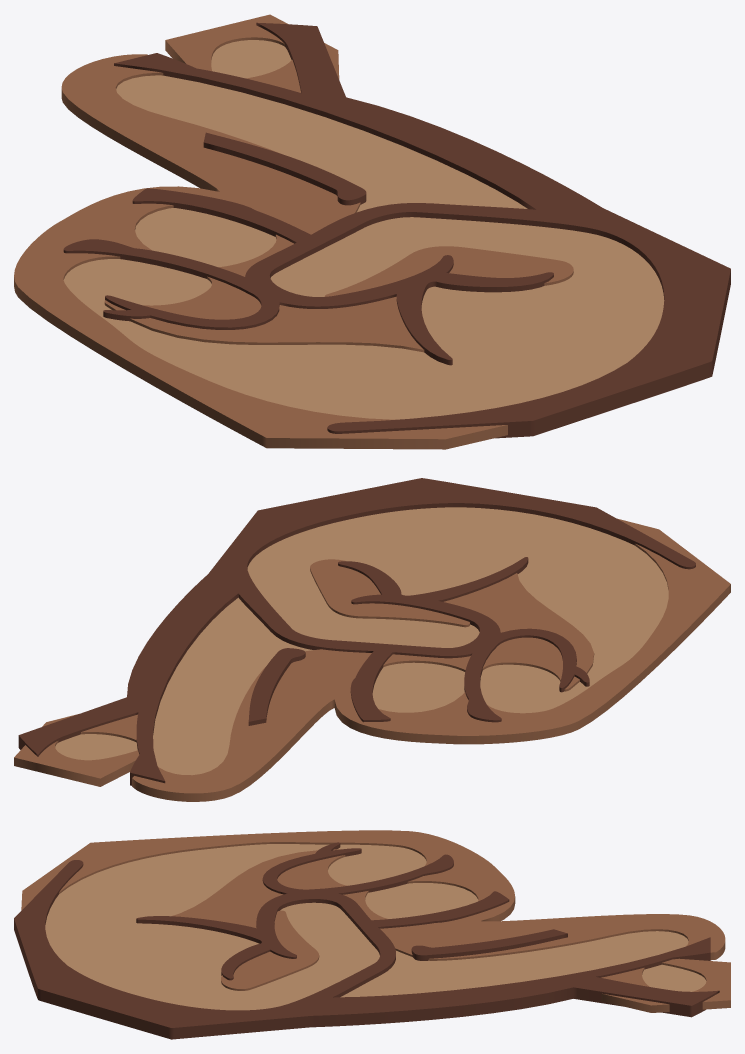
The model's file is emoji_u1f91e_1f3fd.glb.
3 views of the same model, one above another, from view 1: azimuth 30°, elevation 25°; view 2: azimuth 150°, elevation 25°; view 3: azimuth 270°, elevation 25° (orthographic). The views are drawn at different scales.
Visible parts, largest first — view 1: emoji_u1f91e_1f3fd; view 2: emoji_u1f91e_1f3fd; view 3: emoji_u1f91e_1f3fd.
Boxes of the visible parts, x1,y1,x2,y2 form: emoji_u1f91e_1f3fd: [14, 14, 730, 449]; emoji_u1f91e_1f3fd: [14, 478, 730, 801]; emoji_u1f91e_1f3fd: [14, 830, 730, 1039].
Size of the model in its own units: 0.0225 by 0.0008 by 0.0341.
